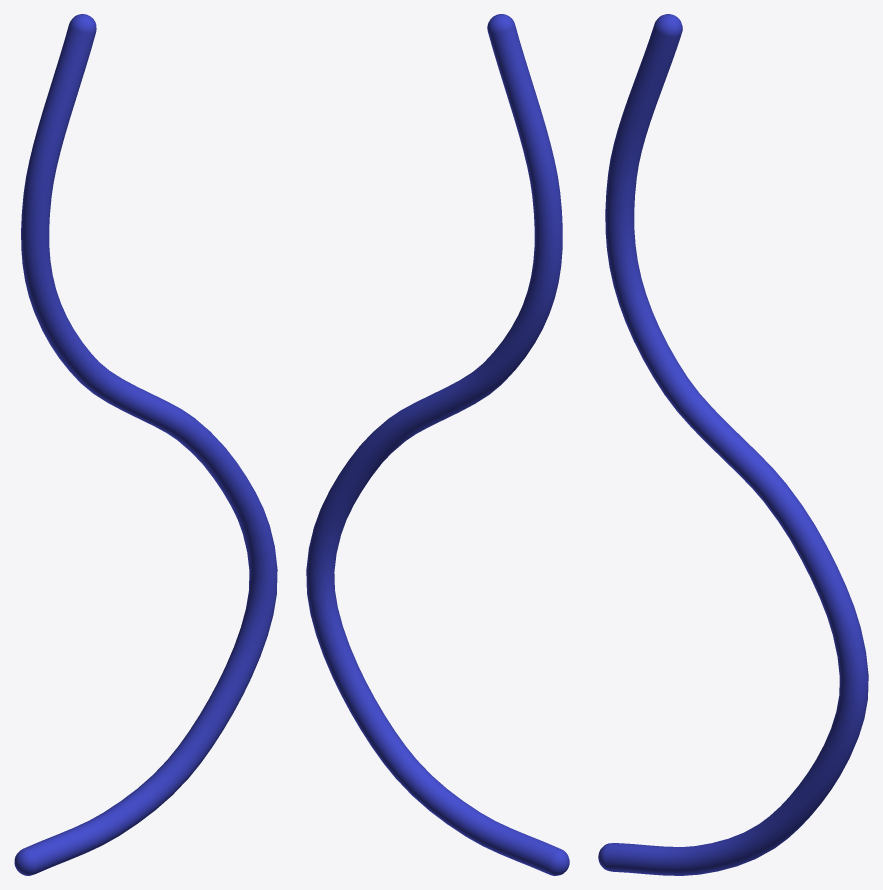
The picture shows the model from 3 angles, left to right: view 1: azimuth 30°, elevation 25°; view 2: azimuth 150°, elevation 25°; view 3: azimuth 330°, elevation 25°; orthographic projection. The views are drawn at different scales.
Parts seen in each view (by area): view 1: root; view 2: root; view 3: root.
Boxes of the visible parts, x1=… form: root: x1=14, y1=14, x2=277, y2=875; root: x1=306, y1=14, x2=569, y2=875; root: x1=598, y1=14, x2=868, y2=875.
Bounding box in the file's own units: 0.1688 × 0.526 × 0.0158.
